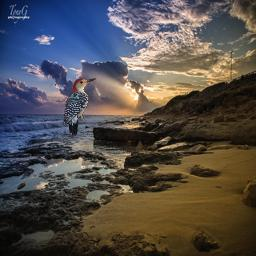Woodpecker: (63, 78, 96, 135)
